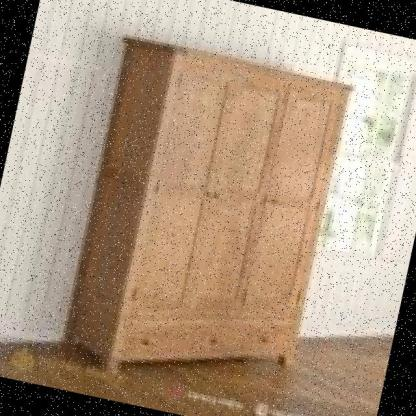Closet: (55, 33, 359, 412)
